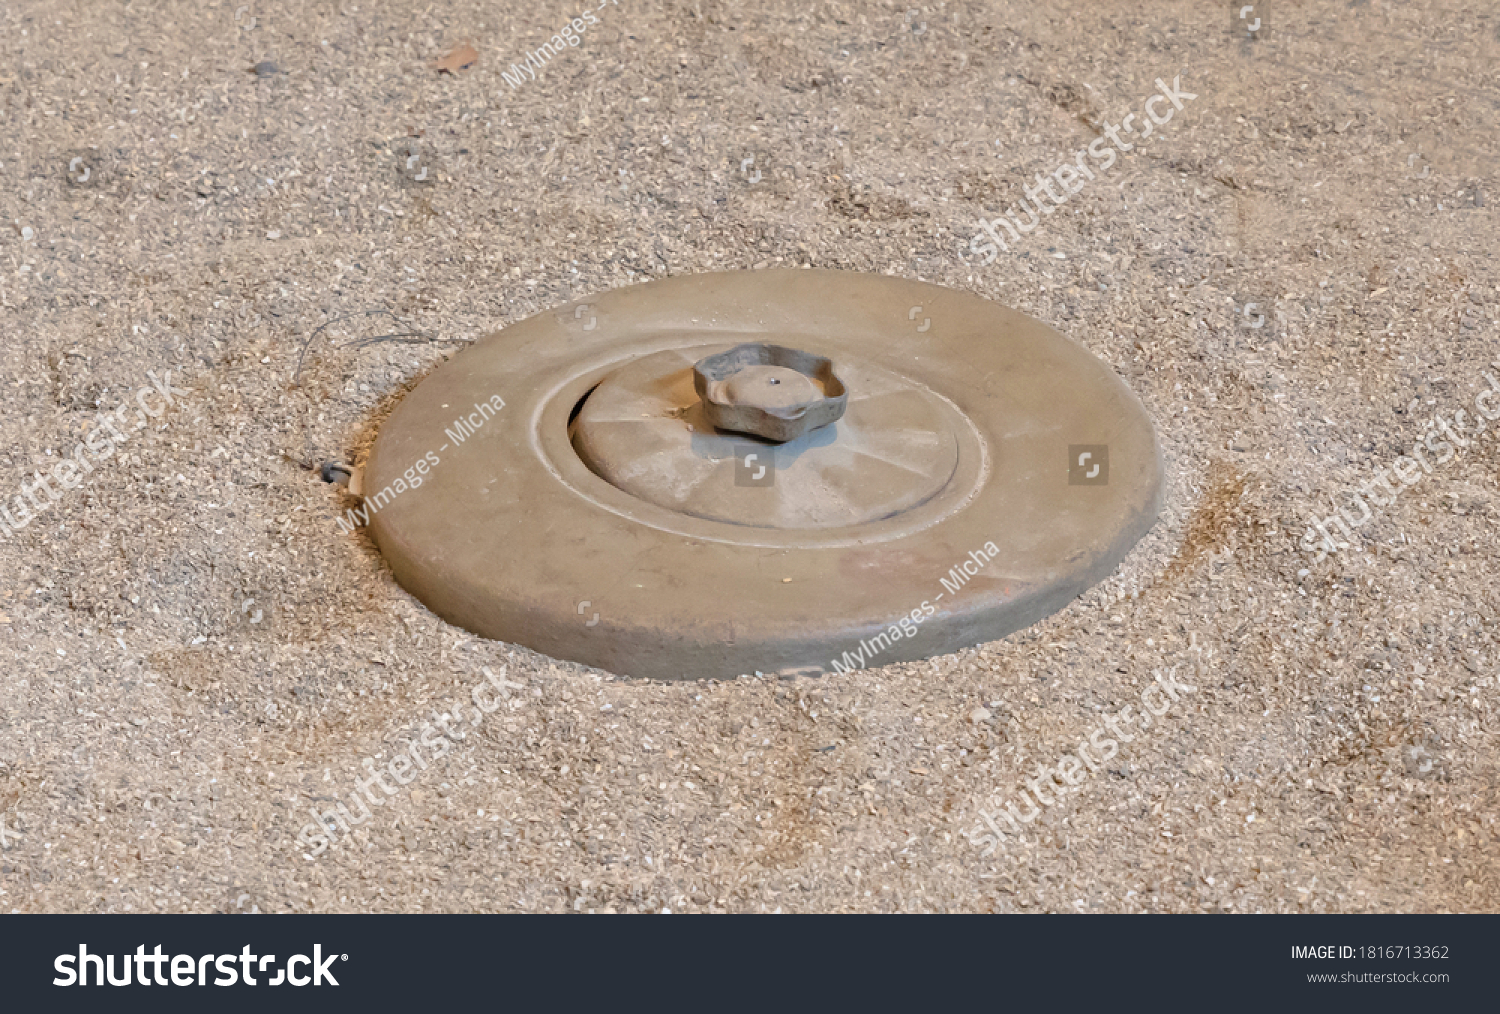car: (330, 183, 1230, 750)
